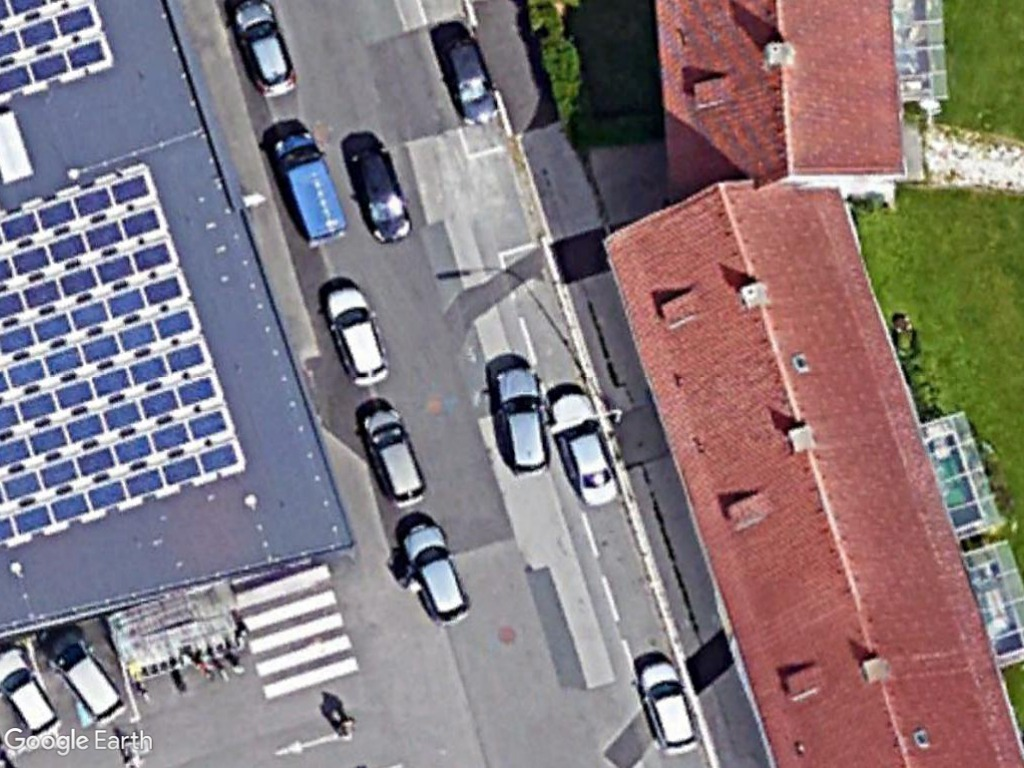car: (41, 628, 129, 726), (546, 392, 617, 509), (398, 523, 471, 629), (360, 404, 430, 507), (634, 655, 702, 758), (323, 287, 391, 389), (348, 143, 413, 249), (231, 2, 299, 101), (494, 365, 553, 479), (438, 33, 501, 133), (0, 644, 63, 741)
van: (270, 128, 350, 252)
